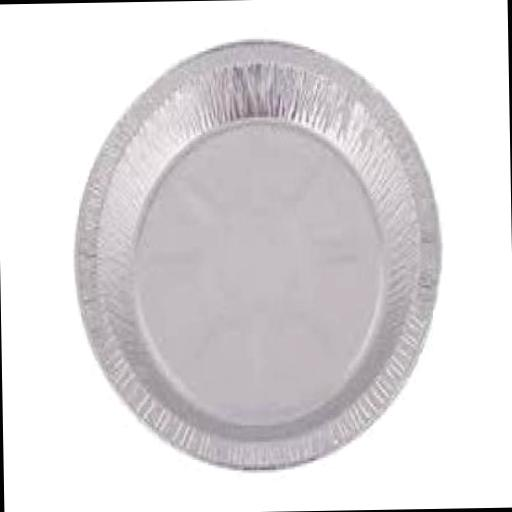metal: (66, 30, 444, 473)
